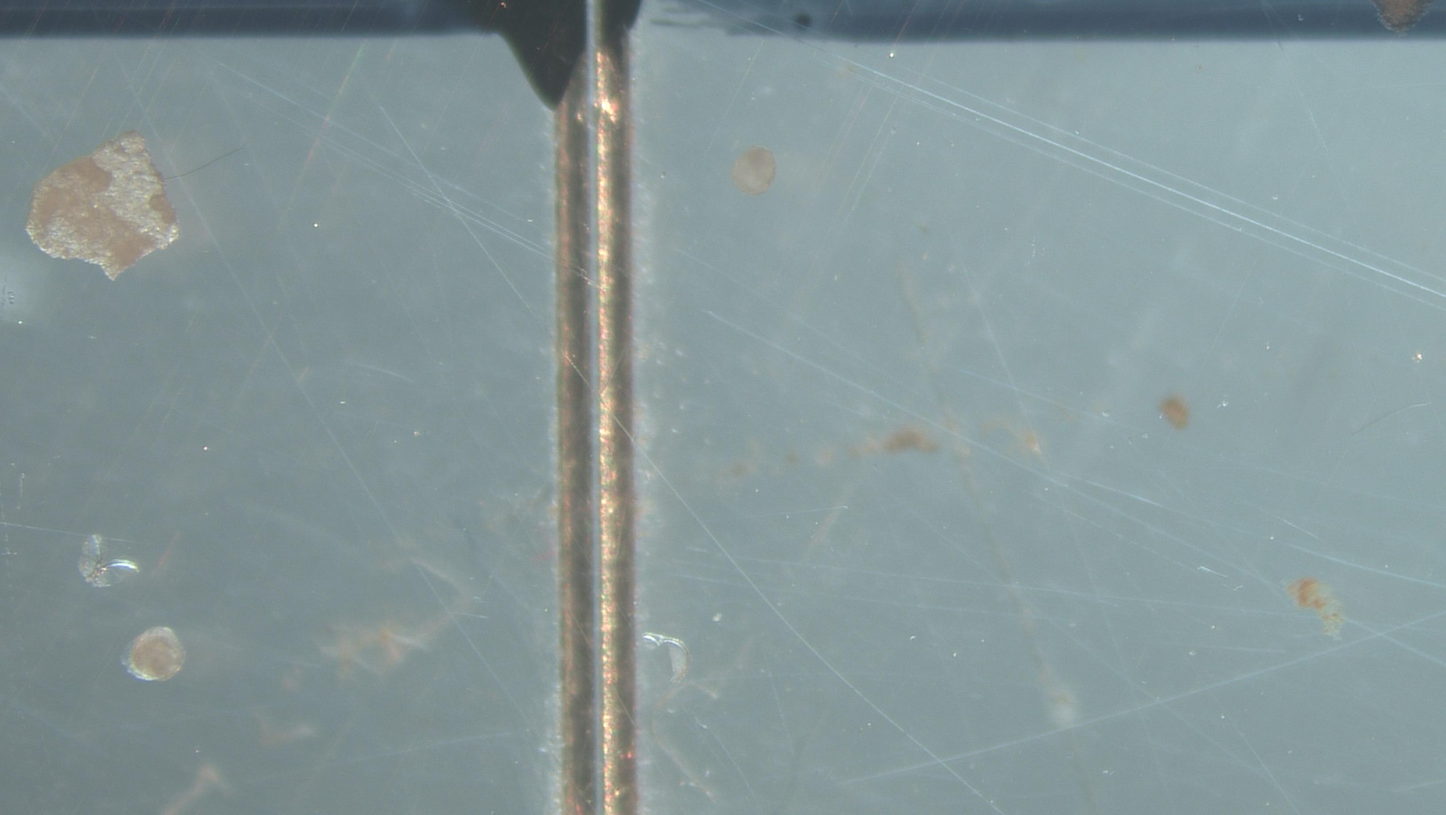live: (125, 627, 185, 681), (732, 147, 776, 195)
